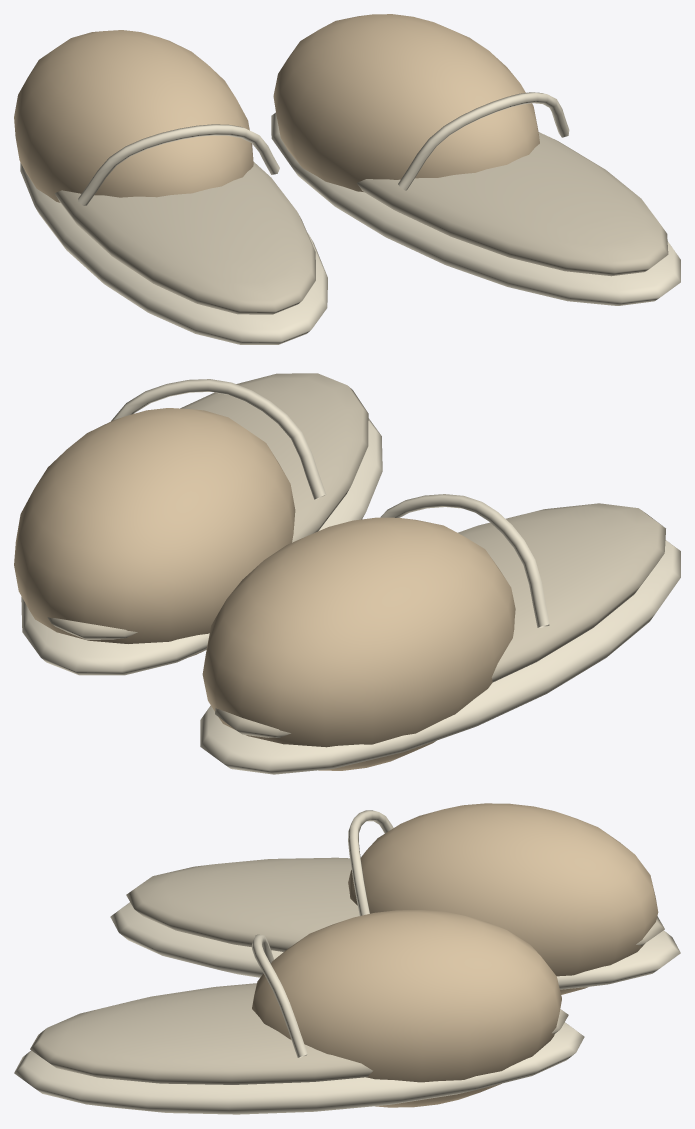
Rendered from family-oat-slippers-v1.glb.
The picture shows the model from 3 angles, top to bottom: view 1: azimuth 30°, elevation 25°; view 2: azimuth 150°, elevation 25°; view 3: azimuth 270°, elevation 25°; orthographic projection. The views are drawn at different scales.
Parts seen in each view (by area): view 1: Slipper toe (×2), Footbed (×2), Padded sole (×2), Piping (×2); view 2: Slipper toe (×2), Footbed (×2), Padded sole (×2), Piping (×2); view 3: Slipper toe (×2), Footbed (×2), Padded sole (×2), Piping (×2).
Boxes of the visible parts, box(x1,y1,x2,y2) form: Slipper toe (×2): box(14, 14, 539, 202); Footbed (×2): box(55, 132, 668, 314); Padded sole (×2): box(20, 112, 680, 344); Piping (×2): box(78, 92, 569, 205); Slipper toe (×2): box(14, 408, 515, 770); Footbed (×2): box(47, 373, 665, 737); Padded sole (×2): box(21, 418, 680, 774); Piping (×2): box(111, 379, 549, 627); Slipper toe (×2): box(252, 803, 658, 1107); Footbed (×2): box(30, 857, 664, 1084); Padded sole (×2): box(14, 902, 680, 1114); Piping (×2): box(252, 810, 393, 1057).
Size of the model in its own units: 0.2316 by 0.084 by 0.2912.
